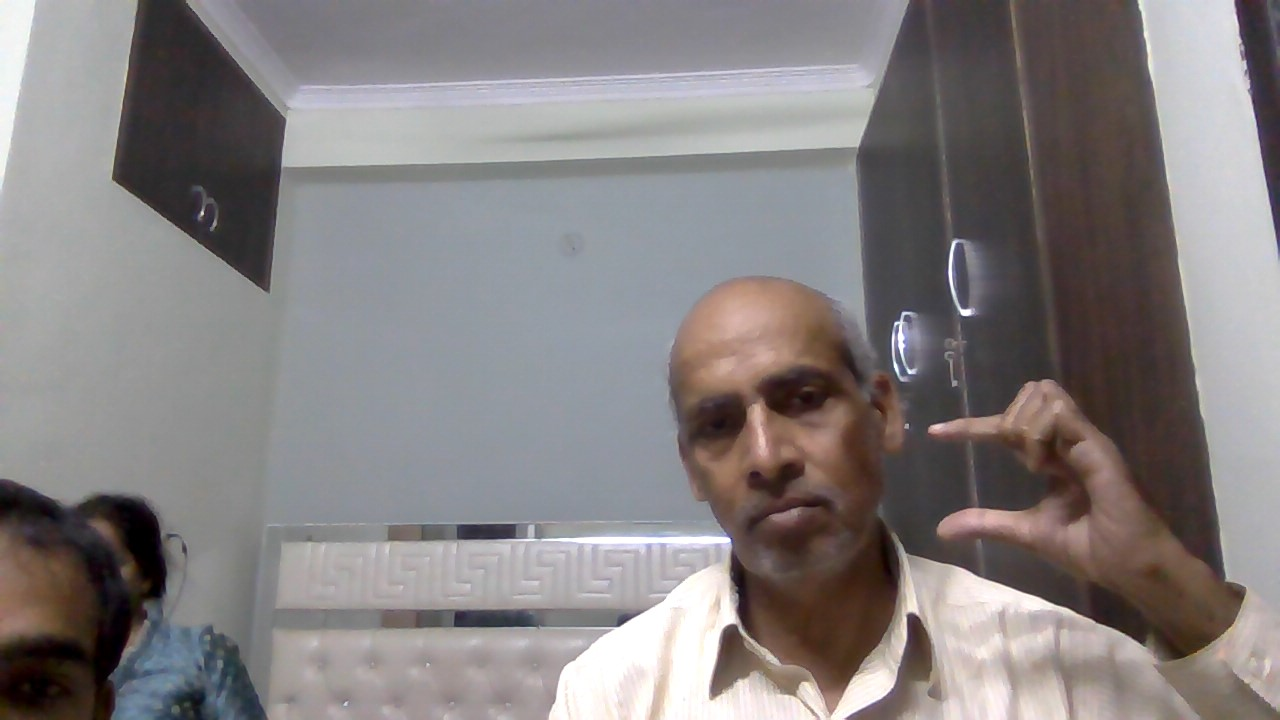Paste: (904, 369, 1209, 610)
